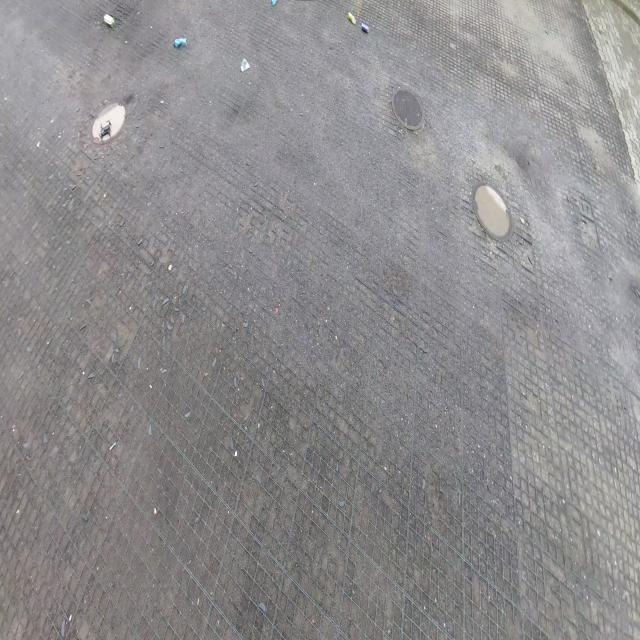rubbish: (103, 13, 115, 28), (173, 37, 188, 49), (240, 58, 250, 74), (361, 23, 370, 34), (347, 11, 355, 23), (271, 0, 277, 6)
